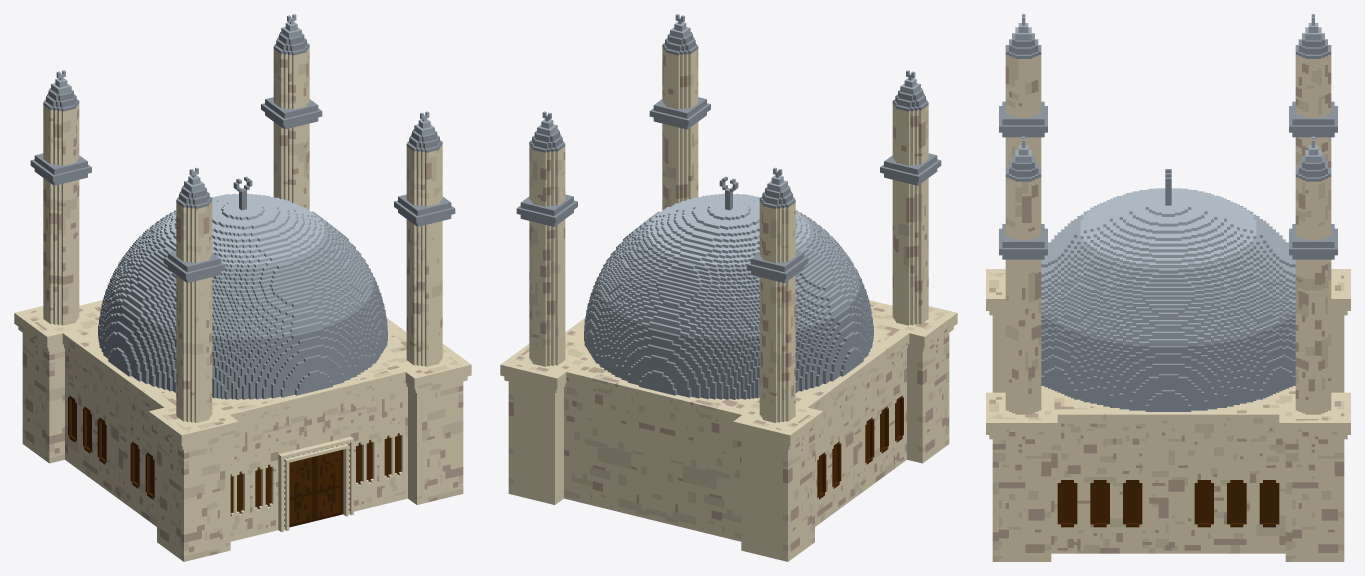
3 renders of one model, left to right at view 1: azimuth 30°, elevation 25°; view 2: azimuth 150°, elevation 25°; view 3: azimuth 270°, elevation 25°, orthographic. The views are drawn at different scales.
Visible parts, largest first — view 1: VOX; view 2: VOX; view 3: VOX.
Part boxes in pixels (box(x1,y1,x2,y2)): VOX: box(14, 14, 471, 561); VOX: box(500, 14, 957, 561); VOX: box(986, 14, 1350, 561).
Size of the model in its own units: 0.112 by 0.139 by 0.112.
